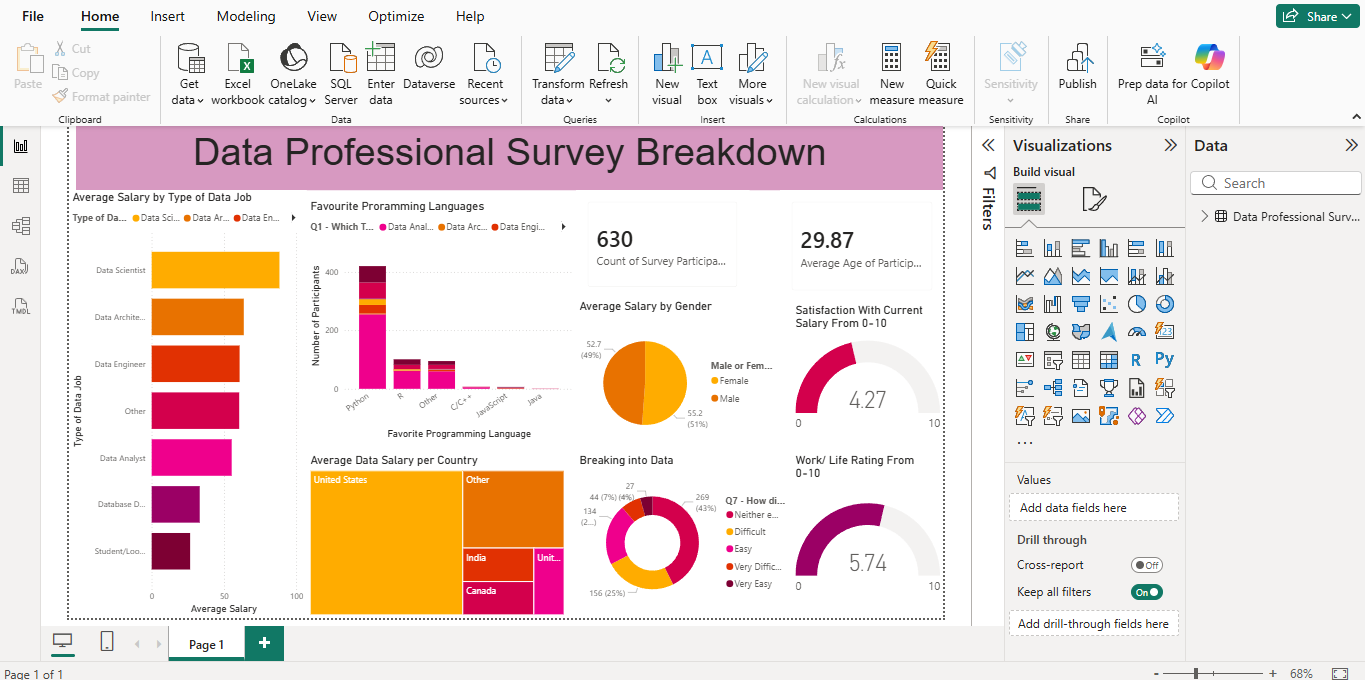

This screenshot's page, from the dashboard's own definition file:
{"tool":"powerbi","page":{"name":"Page 1","canvas":[1280,720],"ordinal":0},"visuals":[{"type":"textbox","box":[10.1,0,1269.9,94.1],"z":0},{"type":"cardVisual","fields":{"Data":["CountNonNull(Data Professional Survey.Unique ID)"]},"box":[742.5,94.1,253.6,159.6],"z":1000},{"type":"cardVisual","fields":{"Data":["Avg(Data Professional Survey.Q10 - Current Age)"]},"box":[1039.8,94.1,240.2,164.6],"z":2000},{"type":"barChart","title":"Average Salary by Type of Data Job ","fields":{"Category":["Data Professional Survey.Q1 - Which Title Best Fits your Current Role?.1.1"],"Y":["Avg(Data Professional Survey.Average Salary)"],"Series":["Data Professional Survey.Q1 - Which Title Best Fits your Current Role?.1.1"]},"box":[0,94.1,347.7,626.6],"z":3000},{"type":"columnChart","title":"Favourite Proramming Languages ","fields":{"Category":["Data Professional Survey.Q5 - Favorite Programming Language.1"],"Y":["CountNonNull(Data Professional Survey.Unique ID)"],"Series":["Data Professional Survey.Q1 - Which Title Best Fits your Current Role?.1.1"]},"box":[347.7,107.5,394.8,356.1],"z":4000},{"type":"treemap","title":"Average Data Salary per Country","fields":{"Group":["Data Professional Survey.Q11 - Which Country do you live in?.1"],"Values":["Sum(Data Professional Survey.Average Salary)"]},"box":[347.7,478.7,381.3,241.9],"z":5000},{"type":"gauge","title":"Satisfaction With Current Salary From 0-10","fields":{"Y":["Avg(Data Professional Survey.Q6 - How Happy are you in your Current Position with the following? (Salary))"],"MinValue":["Min(Data Professional Survey.Q6 - How Happy are you in your Current Position with the following? (Salary))"],"MaxValue":["Max(Data Professional Survey.Q6 - How Happy are you in your Current Position with the following? (Salary))"]},"box":[1058.3,258.7,221.7,204.9],"z":6000},{"type":"gauge","title":"Work/ Life Rating From 0-10","fields":{"Y":["Avg(Data Professional Survey.Q6 - How Happy are you in your Current Position with the following? (Work/Life Balance))"],"MinValue":["Min(Data Professional Survey.Q6 - How Happy are you in your Current Position with the following? (Work/Life Balance))1"],"MaxValue":["Max(Data Professional Survey.Q6 - How Happy are you in your Current Position with the following? (Work/Life Balance))2"]},"box":[1058.3,478.7,221.7,241.9],"z":7000},{"type":"donutChart","title":"Breaking into Data","fields":{"Category":["Data Professional Survey.Q7 - How difficult was it for you to break into Data?"],"Y":["CountNonNull(Data Professional Survey.Q7 - How difficult was it for you to break into Data?)"]},"box":[742.5,478.7,315.8,241.9],"z":8000},{"type":"pieChart","title":"Average Salary by Gender","fields":{"Category":["Data Professional Survey.Q9 - Male/Female?"],"Y":["Avg(Data Professional Survey.Average Salary)"]},"box":[742.5,253.6,297.3,225.1],"z":9000}]}

Visuals, with their boxes on the page's 1280x720 design canvas (x1, y1, x2, y2). These are canvas units, not pixel positions in the 1365x680 screenshot, which may show the page scaled, cropped or inside an application window:
textbox: <bbox>10, 0, 1280, 94</bbox>
cardVisual - CountNonNull(Data Professional Survey.Unique ID): <bbox>742, 94, 996, 254</bbox>
cardVisual - Avg(Data Professional Survey.Q10 - Current Age): <bbox>1040, 94, 1280, 259</bbox>
"Average Salary by Type of Data Job " barChart: <bbox>0, 94, 348, 721</bbox>
"Favourite Proramming Languages " columnChart: <bbox>348, 108, 742, 464</bbox>
"Average Data Salary per Country" treemap: <bbox>348, 479, 729, 721</bbox>
"Satisfaction With Current Salary From 0-10" gauge: <bbox>1058, 259, 1280, 464</bbox>
"Work/ Life Rating From 0-10" gauge: <bbox>1058, 479, 1280, 721</bbox>
"Breaking into Data" donutChart: <bbox>742, 479, 1058, 721</bbox>
"Average Salary by Gender" pieChart: <bbox>742, 254, 1040, 479</bbox>
